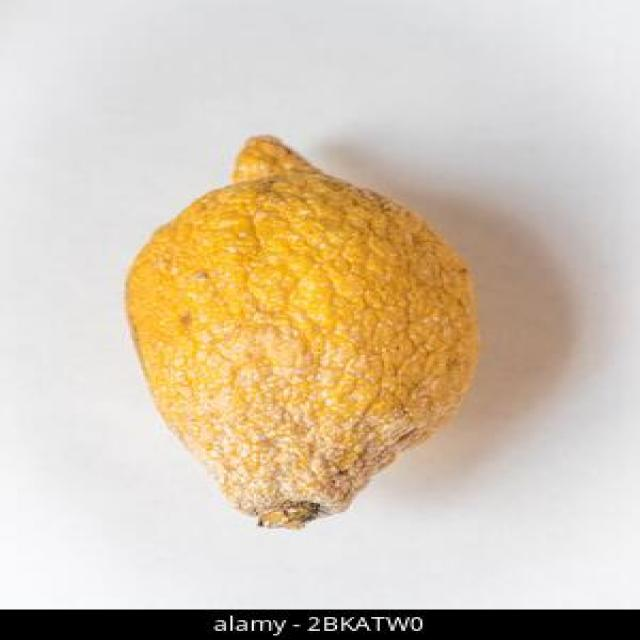Rotten: (120, 134, 486, 533)
